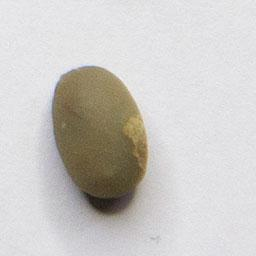peaberry: (47, 61, 151, 202)
